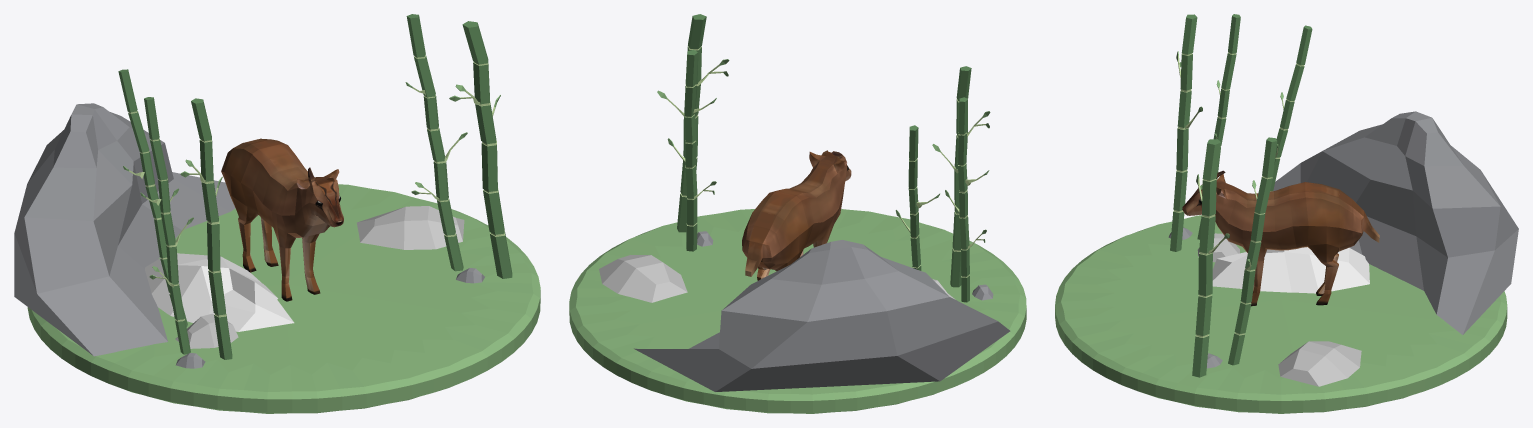
The model's file is meta ar.fbx.
3 renders of one model, left to right at view 1: azimuth 30°, elevation 25°; view 2: azimuth 150°, elevation 25°; view 3: azimuth 270°, elevation 25°, orthographic. The views are drawn at different scales.
Visible parts, largest first — view 1: Cylinder.018, Cube, Object_1, Cube.004, Cylinder.001, Cylinder.008, Cylinder.004, Cube.005, Cylinder.011, Cylinder.015, Cube.001; view 2: Cylinder.018, Cube, Object_1, Cube.005, Cylinder.004, Cylinder.011, Cylinder.001, Cylinder.008, Cylinder.015; view 3: Cylinder.018, Cube, Object_1, Cube.004, Cylinder.001, Cylinder.008, Cube.005, Cylinder.004, Cylinder.015, Cylinder.011, Cube.001.
Boxes of the visible parts, left/top/right/bottom form: Cylinder.018: left=27, top=184, right=540, bottom=413; Cube: left=14, top=103, right=235, bottom=356; Object_1: left=221, top=138, right=343, bottom=301; Cube.004: left=145, top=253, right=294, bottom=331; Cylinder.001: left=462, top=21, right=512, bottom=278; Cylinder.008: left=191, top=98, right=232, bottom=359; Cylinder.004: left=406, top=14, right=463, bottom=271; Cube.005: left=357, top=206, right=464, bottom=249; Cylinder.011: left=144, top=97, right=190, bottom=354; Cylinder.015: left=118, top=69, right=187, bottom=326; Cube.001: left=175, top=313, right=238, bottom=348; Cylinder.018: left=569, top=209, right=1026, bottom=413; Cube: left=634, top=240, right=1010, bottom=391; Object_1: left=742, top=150, right=851, bottom=280; Cube.005: left=599, top=255, right=687, bottom=302; Cylinder.004: left=684, top=49, right=697, bottom=251; Cylinder.011: left=957, top=97, right=969, bottom=302; Cylinder.001: left=677, top=14, right=706, bottom=232; Cylinder.008: left=950, top=66, right=971, bottom=287; Cylinder.015: left=908, top=125, right=921, bottom=270; Cylinder.018: left=1055, top=215, right=1507, bottom=413; Cube: left=1273, top=111, right=1518, bottom=334; Object_1: left=1182, top=170, right=1379, bottom=306; Cube.004: left=1212, top=247, right=1369, bottom=293; Cylinder.001: left=1192, top=139, right=1221, bottom=377; Cylinder.008: left=1170, top=14, right=1197, bottom=251; Cube.005: left=1278, top=341, right=1361, bottom=386; Cylinder.004: left=1228, top=137, right=1277, bottom=365; Cylinder.015: left=1270, top=25, right=1312, bottom=191; Cylinder.011: left=1197, top=14, right=1240, bottom=239; Cube.001: left=1197, top=233, right=1239, bottom=262.
Bounding box in the file's own units: 660 × 386 × 656.
